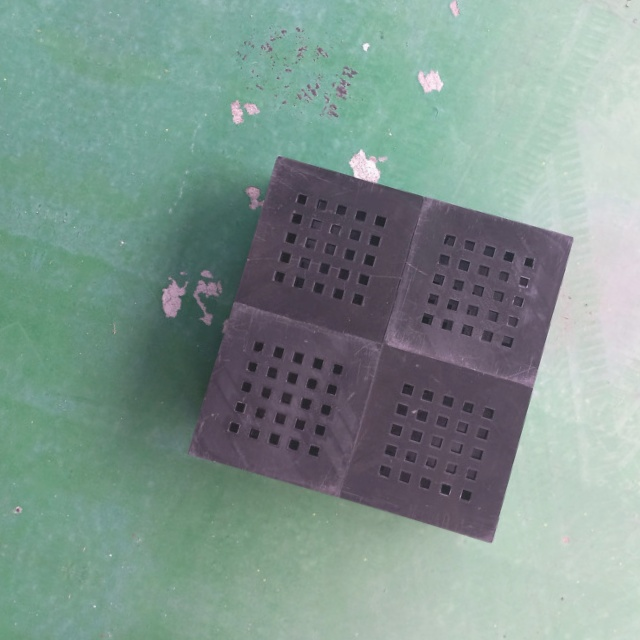pallet: (174, 144, 583, 560)
